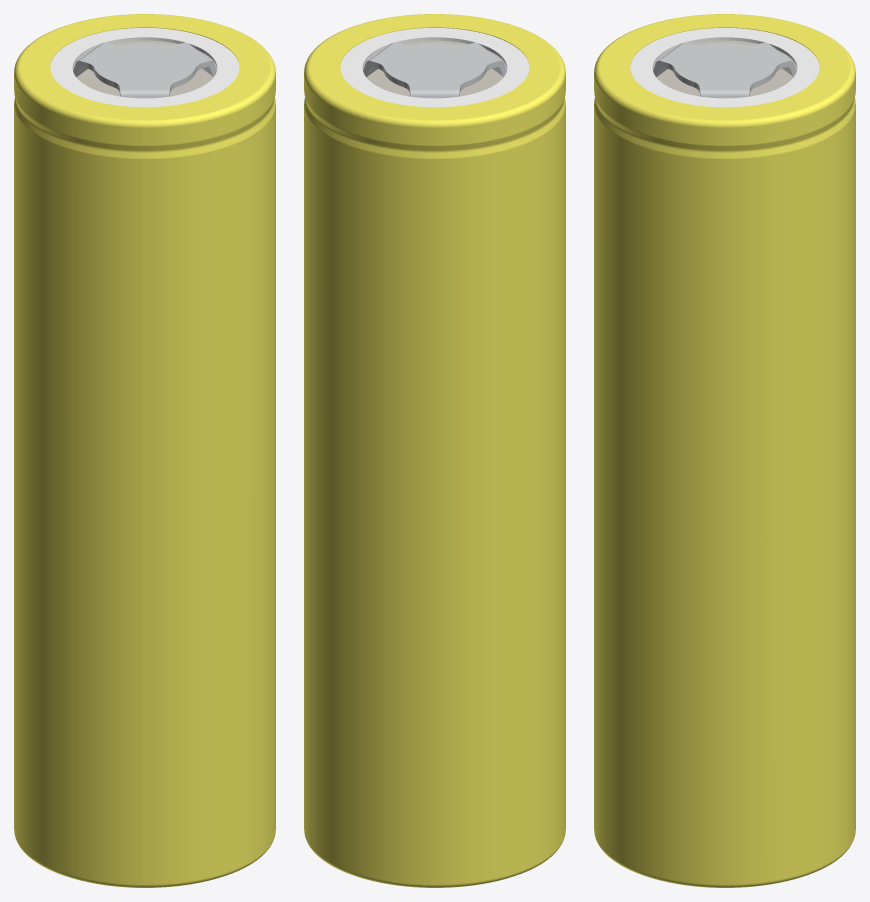
File: cell.glb
The picture shows the model from 3 angles, left to right: view 1: azimuth 30°, elevation 25°; view 2: azimuth 150°, elevation 25°; view 3: azimuth 270°, elevation 25°; orthographic projection.
Visible parts, largest first — view 1: INR-21700.SLDPRT; view 2: INR-21700.SLDPRT; view 3: INR-21700.SLDPRT.
Part boxes in pixels (left/top/right/bottom): INR-21700.SLDPRT: left=14, top=14, right=275, bottom=887; INR-21700.SLDPRT: left=304, top=14, right=565, bottom=887; INR-21700.SLDPRT: left=594, top=14, right=855, bottom=887.
Size of the model in its own units: 0.0217 by 0.0704 by 0.0217.
